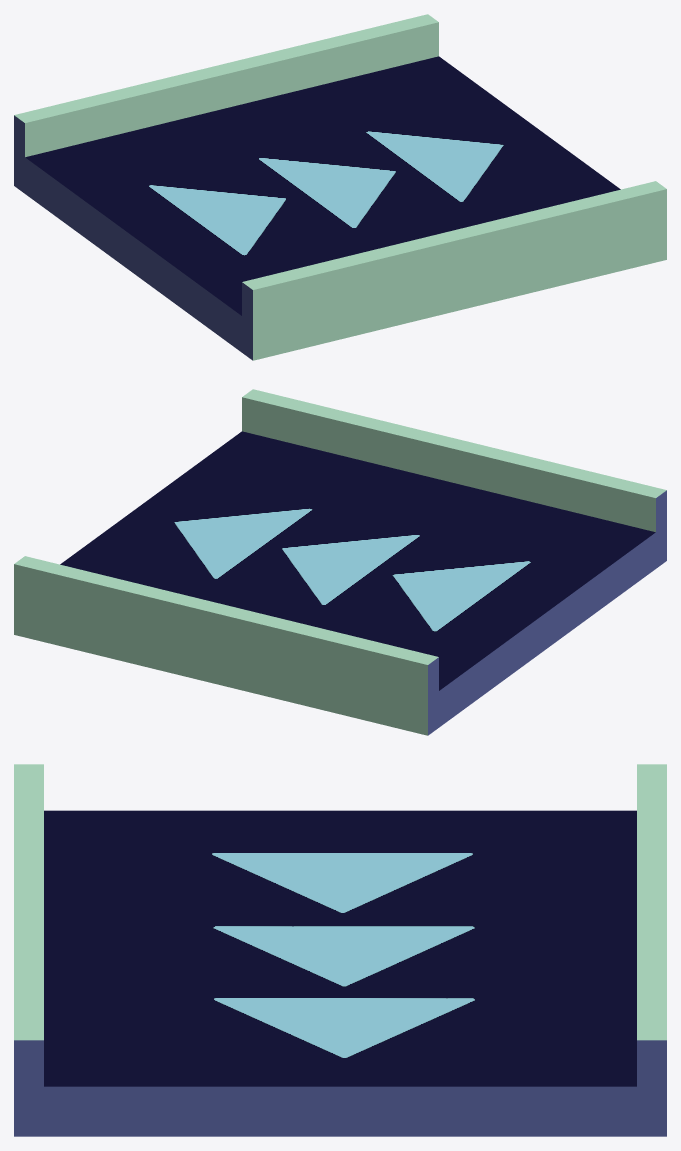
The model's file is conveer.fbx.
3 renders of one model, top to bottom at view 1: azimuth 30°, elevation 25°; view 2: azimuth 150°, elevation 25°; view 3: azimuth 270°, elevation 25°, orthographic. The views are drawn at different scales.
Parts seen in each view (by area): view 1: Cube.001; view 2: Cube.001; view 3: Cube.001.
Boxes of the visible parts, <box> form: Cube.001: <box>14,14,666,360</box>; Cube.001: <box>14,389,666,735</box>; Cube.001: <box>14,764,666,1136</box>.
Bounding box in the file's own units: 184 × 30 × 184.
Materials: 3 (1 with a texture image).
